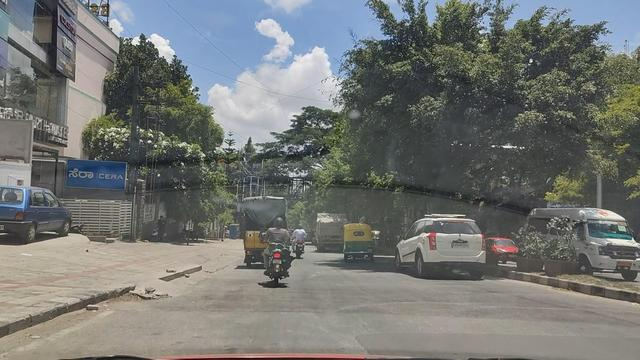HMV: (517, 191, 640, 280), (235, 193, 293, 271), (305, 201, 356, 267)
